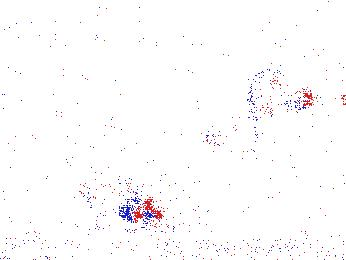flame jellyfish: (79, 169, 164, 224), (243, 68, 313, 122), (203, 115, 266, 162)
